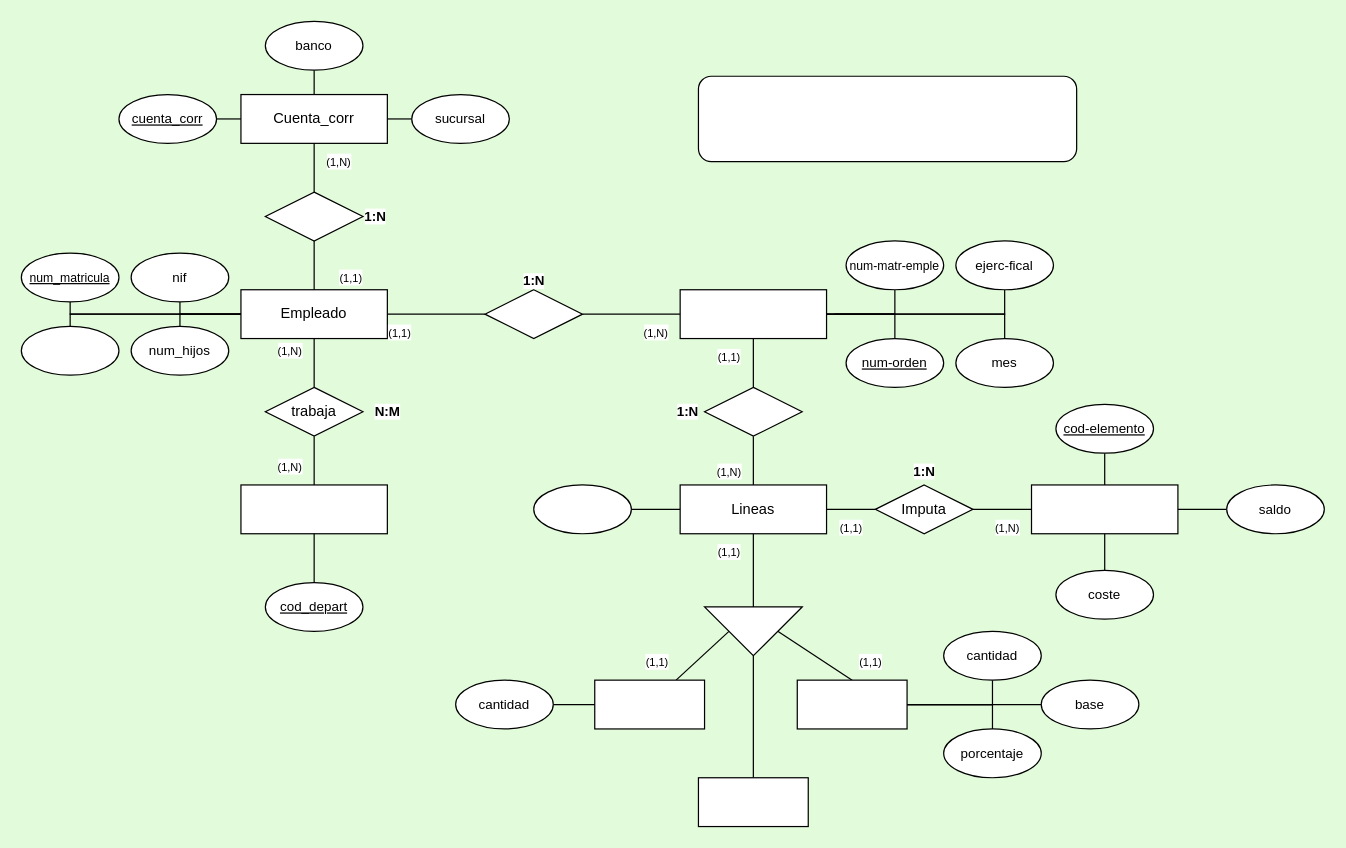
This 1346x848 diagram has some shape labels left out. Here are the shapes that lost their labels. From the top down, the box of each, then its label:
(697, 75, 1077, 162): Segundo supuesto entidad-relacion Por; Antonio Gómez Pérez 1ºDAW
(264, 191, 363, 241): Posee
(484, 289, 583, 339): Recibe
(679, 289, 827, 339): Justificante
(20, 325, 119, 375): retenc_hacien
(703, 386, 802, 436): Consta
(240, 484, 387, 534): Departamento
(533, 484, 631, 534): cod-lineas
(1030, 484, 1178, 534): Elemento-Coste
(594, 679, 705, 729): ingresos
(796, 679, 907, 729): Descuentos
(697, 777, 808, 827): Concept-Retrib
